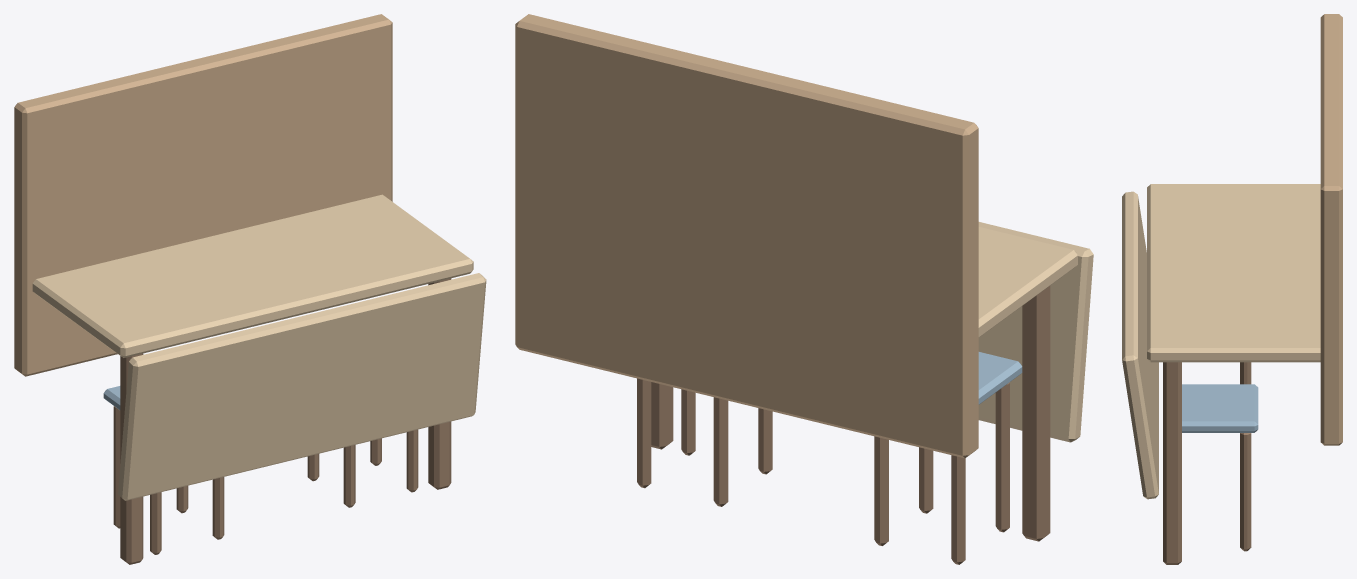
Rendered from DropLeafWallTable.glb.
3 views of the same model, side by side, from view 1: azimuth 30°, elevation 25°; view 2: azimuth 150°, elevation 25°; view 3: azimuth 270°, elevation 25° (orthographic). The views are drawn at different scales.
Parts seen in each view (by area): view 1: SpaceSaver_DropLeafWallTable; view 2: SpaceSaver_DropLeafWallTable; view 3: SpaceSaver_DropLeafWallTable.
Boxes of the visible parts, x1,y1,x2,y2 form: SpaceSaver_DropLeafWallTable: (14,14,486,564); SpaceSaver_DropLeafWallTable: (515,14,1093,564); SpaceSaver_DropLeafWallTable: (1122,14,1342,564).
Bounding box in the file's own units: 1.3 × 1.35 × 0.6929.
